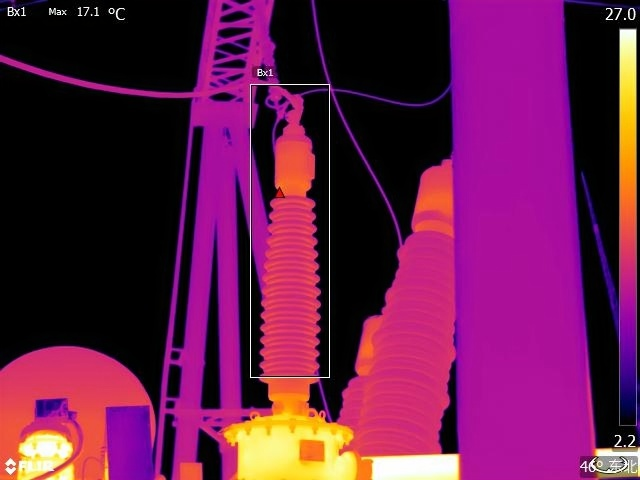oil conservator: (1, 325, 166, 480)
tube: (353, 146, 452, 453), (257, 115, 326, 414), (335, 308, 386, 428)
